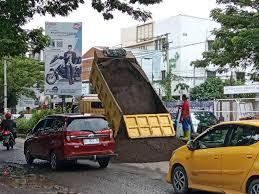Pothole: (0, 155, 61, 193)
